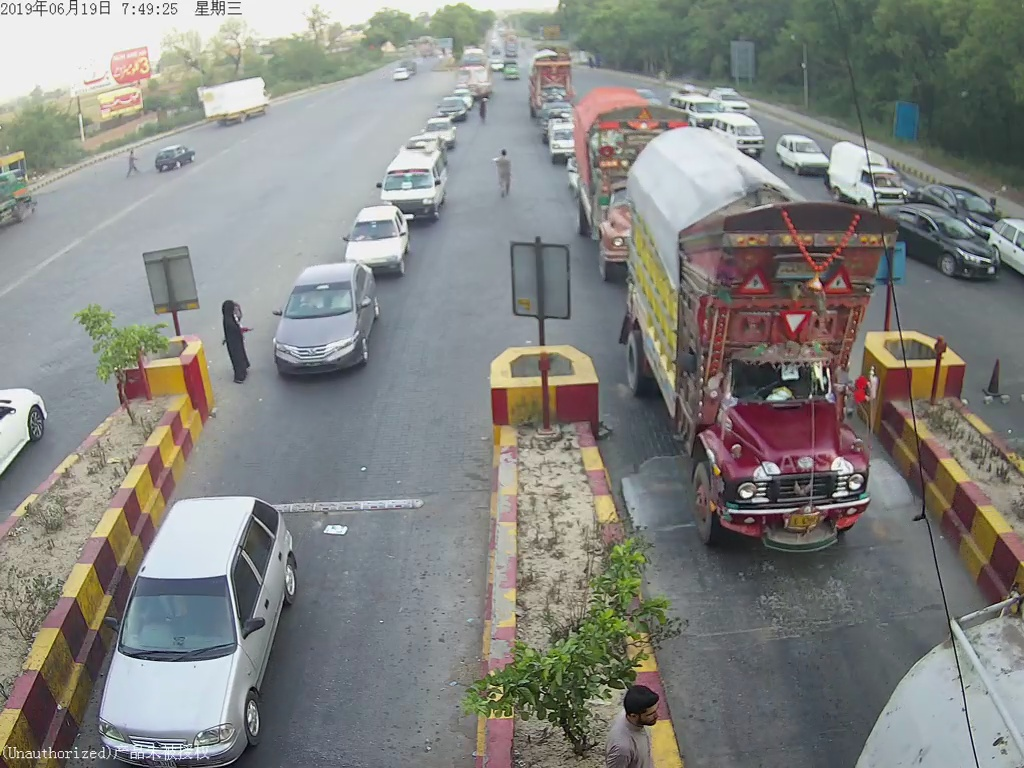Cat-1: (103, 493, 314, 768), (265, 259, 374, 370), (348, 211, 410, 273)
Cat-2: (378, 147, 453, 226)
Cat-4: (625, 132, 886, 548), (568, 81, 662, 281)
